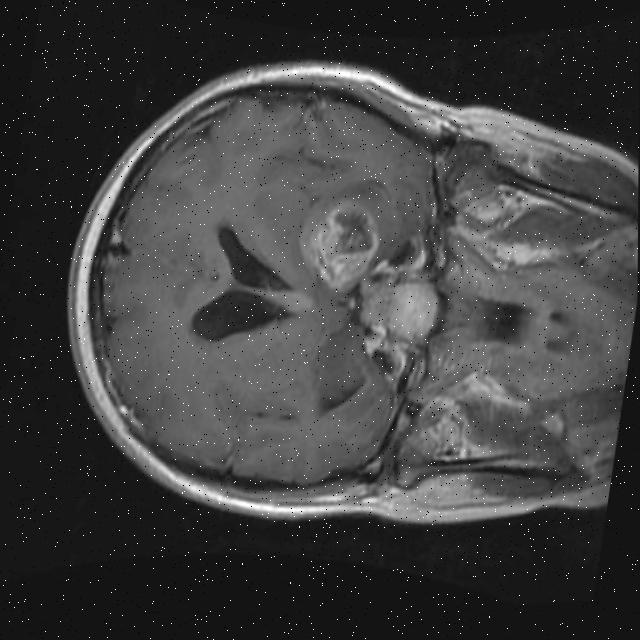Glioma: (298, 192, 386, 298)
Pituitary: (380, 273, 441, 342)
